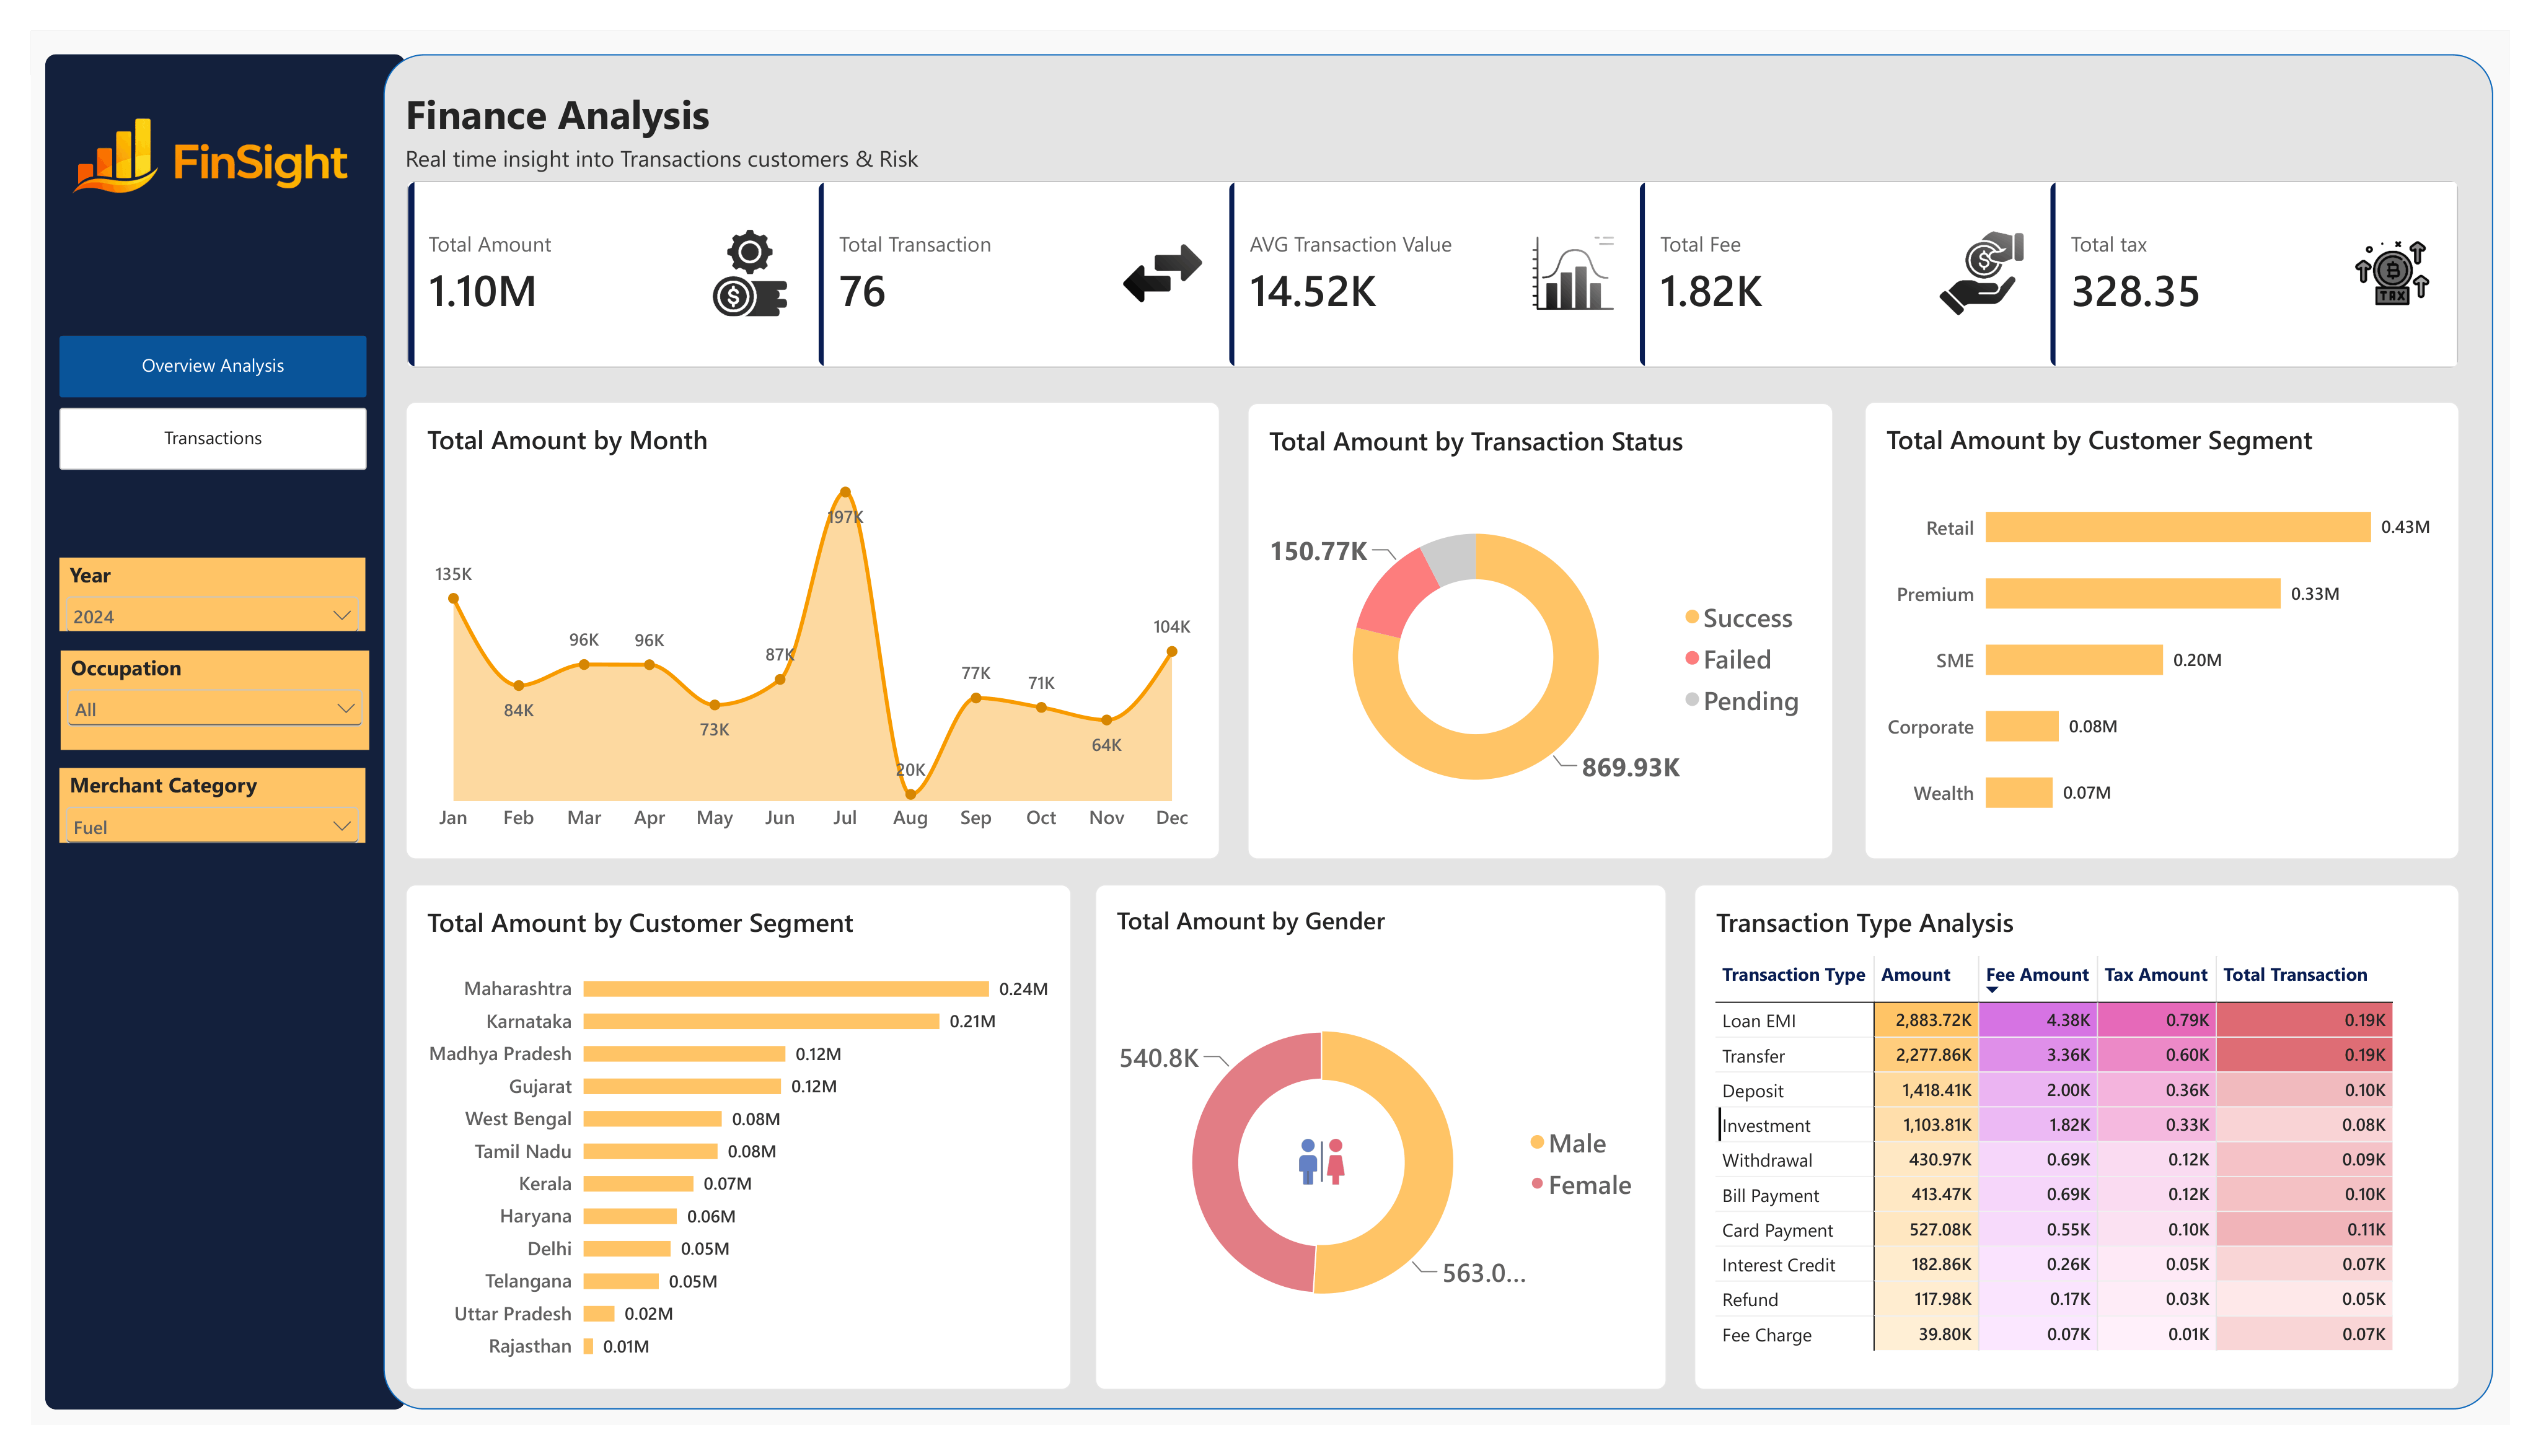

What the dashboard file says about the page in this screenshot:
{"tool":"powerbi","page":{"name":"Overview Analysis","canvas":[1920,1080],"ordinal":0},"visuals":[{"type":"shape","box":[10.9,18.1,278.7,1049.6],"z":0},{"type":"shape","box":[273.3,18.1,1634.1,1049.6],"z":1000},{"type":"image","box":[22.3,54,238.2,87.5],"z":2000},{"type":"cardVisual","fields":{"Data":["finance_transactions.Dashboard Title"]},"box":[290.3,18.6,445.2,115.8],"z":3000},{"type":"cardVisual","fields":{"Data":["finance_transactions.Total Amount","finance_transactions.Total Transaction","finance_transactions.AVG Transaction Value","finance_transactions.Total Fee","finance_transactions.Total tax"]},"box":[290.3,115.4,1591,147],"z":4000},{"type":"slicer","fields":{"Values":["Calender Table.Year"]},"box":[22.3,407.5,237.1,57.9],"z":5000},{"type":"lineChart","title":"Total Amount by Month","fields":{"Category":["Calender Table.Month"],"Y":["Sum(finance_transactions.amount)"]},"box":[290.3,286.6,630.8,355.4],"z":6000},{"type":"donutChart","title":"Total Amount by Transaction Status","fields":{"Category":["finance_transactions.transaction_status"],"Y":["Sum(finance_transactions.amount)"]},"box":[941.6,288.4,454,353.6],"z":7000},{"type":"clusteredBarChart","title":"Total Amount by Customer Segment","fields":{"Category":["customers.customer_segment"],"Y":["Sum(finance_transactions.amount)"]},"box":[1419.8,286.6,461.5,355.4],"z":8000},{"type":"donutChart","title":"Total Amount by Gender","fields":{"Category":["customers.gender"],"Y":["Sum(finance_transactions.amount)"]},"box":[824.3,660.6,442.9,392.6],"z":9000},{"type":"pivotTable","title":"Transaction Type Analysis","fields":{"Rows":["finance_transactions.transaction_type"],"Values":["Sum(finance_transactions.amount)","Sum(finance_transactions.fee_amount)","Sum(finance_transactions.tax_amount)","finance_transactions.Total Transaction"]},"box":[1287.7,660.6,593.6,392.6],"z":10000},{"type":"slicer","fields":{"Values":["customers.occupation"]},"box":[22.8,479.6,238.9,77.8],"z":11000},{"type":"slicer","fields":{"Values":["finance_transactions.merchant_category"]},"box":[22.3,571.3,237.1,57.9],"z":12000},{"type":"clusteredBarChart","title":"Total Amount by Customer Segment","fields":{"Category":["customers.state"],"Y":["Sum(finance_transactions.amount)"]},"box":[290.3,660.6,515.5,392.6],"z":13000},{"type":"pageNavigator","box":[22.3,236.3,238.2,104.2],"z":13001}]}

Visuals, with their boxes on the page's 1920x1080 design canvas (x1, y1, x2, y2). These are canvas units, not pixel positions in the 2541x1456 screenshot, which may show the page scaled, cropped or inside an application window:
shape: [x1=11, y1=18, x2=290, y2=1068]
shape: [x1=273, y1=18, x2=1907, y2=1068]
image: [x1=22, y1=54, x2=260, y2=142]
cardVisual - finance_transactions.Dashboard Title: [x1=290, y1=19, x2=736, y2=134]
cardVisual - finance_transactions.Total Amount x finance_transactions.Total Transaction: [x1=290, y1=115, x2=1881, y2=262]
slicer - Calender Table.Year: [x1=22, y1=408, x2=259, y2=465]
"Total Amount by Month" lineChart: [x1=290, y1=287, x2=921, y2=642]
"Total Amount by Transaction Status" donutChart: [x1=942, y1=288, x2=1396, y2=642]
"Total Amount by Customer Segment" clusteredBarChart: [x1=1420, y1=287, x2=1881, y2=642]
"Total Amount by Gender" donutChart: [x1=824, y1=661, x2=1267, y2=1053]
"Transaction Type Analysis" pivotTable: [x1=1288, y1=661, x2=1881, y2=1053]
slicer - customers.occupation: [x1=23, y1=480, x2=262, y2=557]
slicer - finance_transactions.merchant_category: [x1=22, y1=571, x2=259, y2=629]
"Total Amount by Customer Segment" clusteredBarChart: [x1=290, y1=661, x2=806, y2=1053]
pageNavigator: [x1=22, y1=236, x2=260, y2=340]
